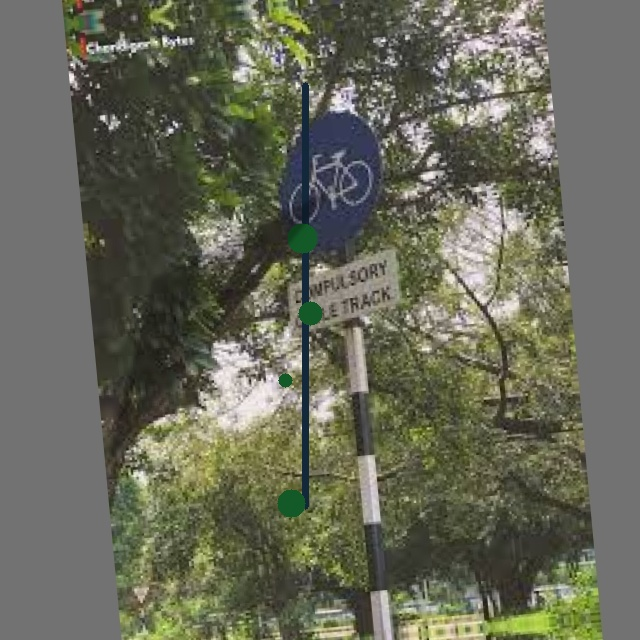Compulsory_Cycle_Track: (267, 107, 402, 254)
